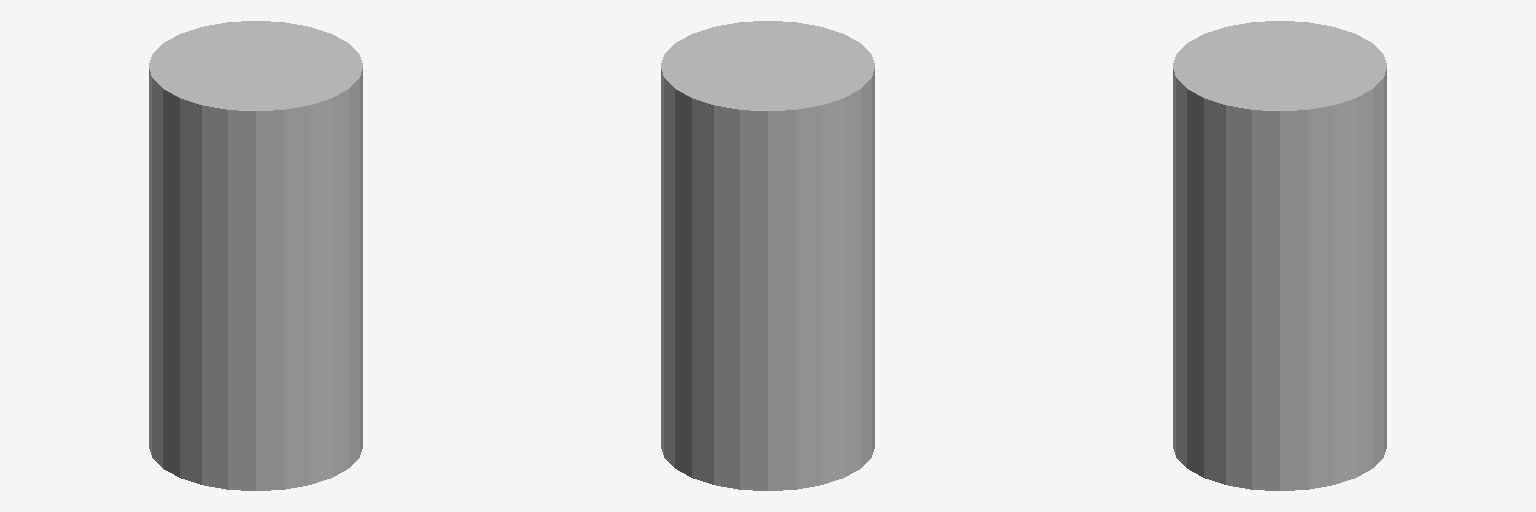
Rendered from original-19.obj.
3 views of the same model, side by side, from view 1: azimuth 30°, elevation 25°; view 2: azimuth 150°, elevation 25°; view 3: azimuth 270°, elevation 25° (orthographic).
Parts seen in each view (by area): view 1: mesh56/mesh56-geometry#mesh56-geometry; view 2: mesh56/mesh56-geometry#mesh56-geometry; view 3: mesh56/mesh56-geometry#mesh56-geometry.
Boxes of the visible parts, x1,y1,x2,y2 form: mesh56/mesh56-geometry#mesh56-geometry: [149, 21, 362, 490]; mesh56/mesh56-geometry#mesh56-geometry: [661, 21, 874, 490]; mesh56/mesh56-geometry#mesh56-geometry: [1173, 21, 1386, 490].
Bounding box in the file's own units: 0.0087 × 0.0169 × 0.0087.